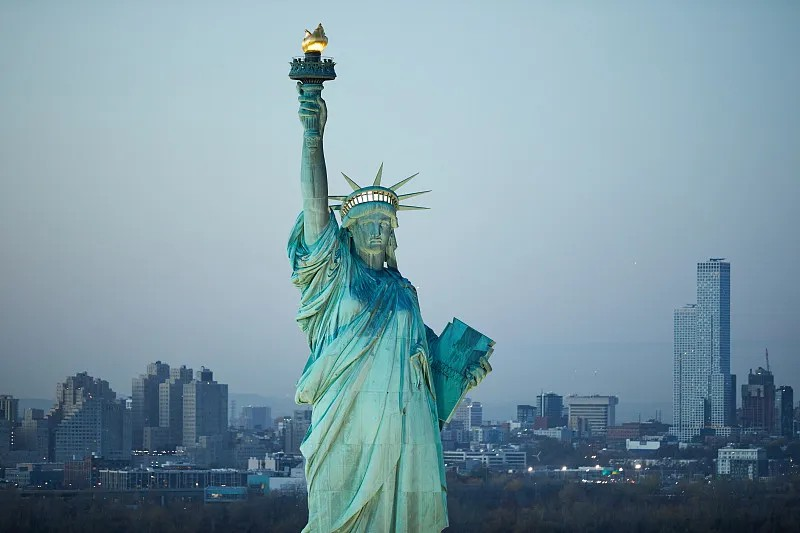SL: (286, 22, 496, 533)
